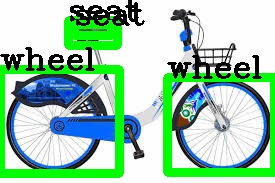seat: (68, 20, 117, 45), (74, 24, 111, 35)
wheel: (0, 69, 119, 173), (167, 77, 274, 172)
